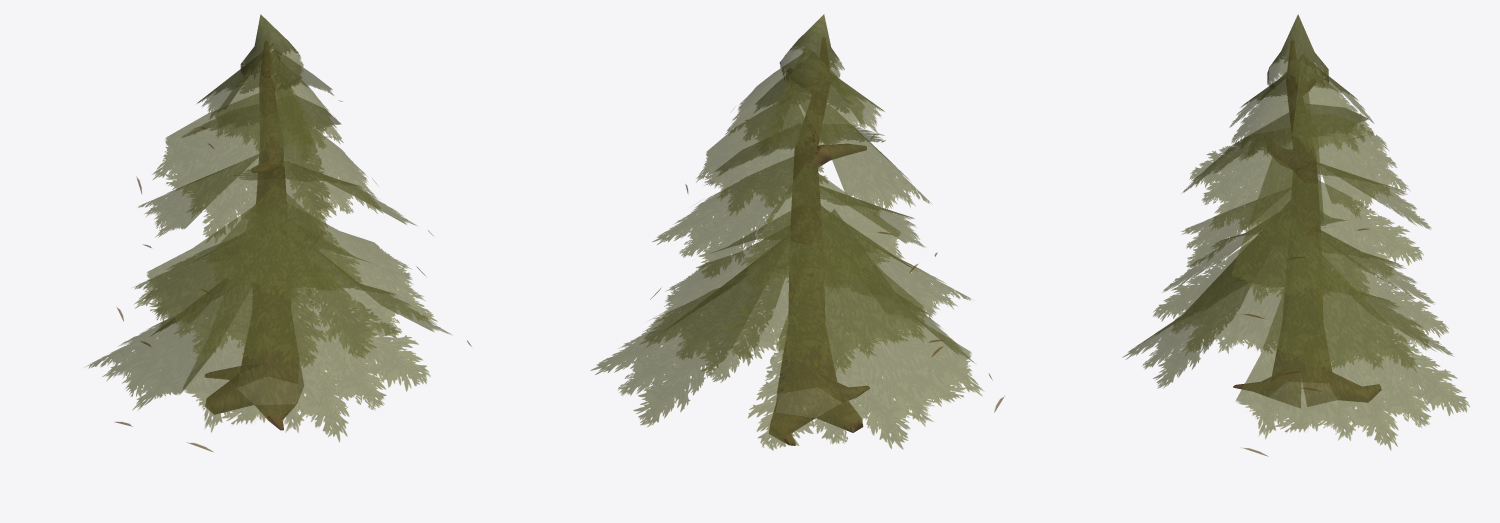
The model's file is pine_standard.fbx.
3 renders of one model, left to right at view 1: azimuth 30°, elevation 25°; view 2: azimuth 150°, elevation 25°; view 3: azimuth 270°, elevation 25°, orthographic. The views are drawn at different scales.
Parts seen in each view (by area): view 1: PineTree_1.001, PineTree_1; view 2: PineTree_1.001, PineTree_1; view 3: PineTree_1.001, PineTree_1.
Part boxes in pixels (x1,y1,x2,y2): PineTree_1.001: [86, 14, 471, 451]; PineTree_1: [205, 41, 303, 430]; PineTree_1.001: [590, 14, 1004, 450]; PineTree_1: [769, 37, 869, 445]; PineTree_1.001: [1122, 14, 1469, 456]; PineTree_1: [1233, 41, 1381, 407].
Bounding box in the file's own units: 2197 × 2033 × 1992.
